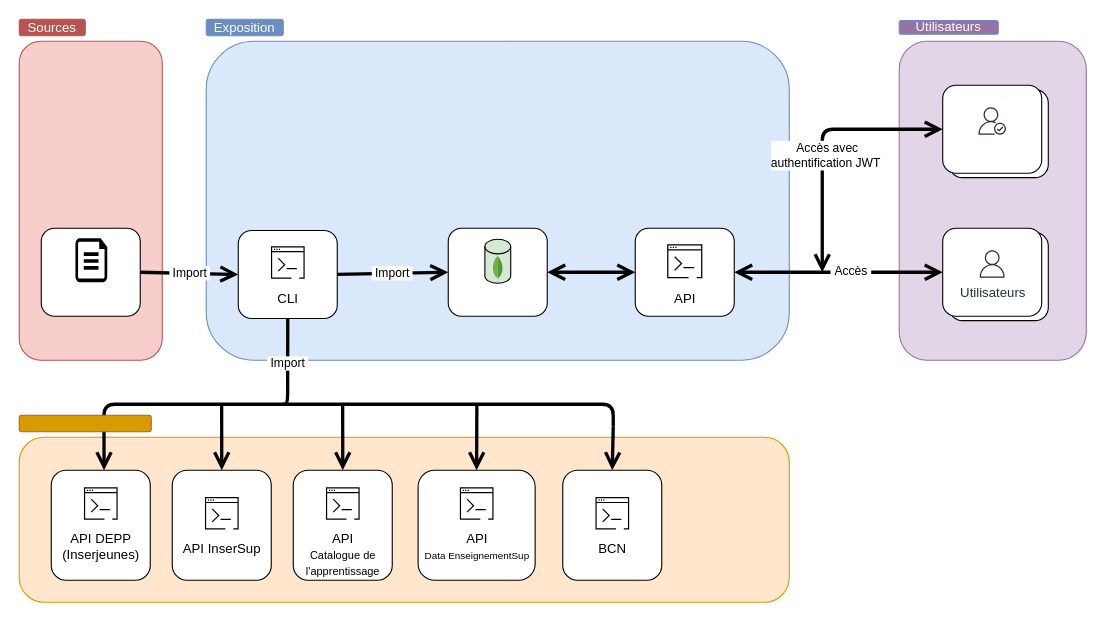
The diagram is 1106 pixels wide and 622 high, and some of its shapes have lost their labels. The shapes that lost their labels are listed below. From the top down, each one's box as (x1, y1, x2, y2) in pixels, then its label:
(978, 107, 1005, 134): Utilisateurs authentifiés
(75, 238, 107, 282): FICHIER CSV
(484, 238, 511, 283): MongoDB
(18, 414, 151, 432): Services externes
